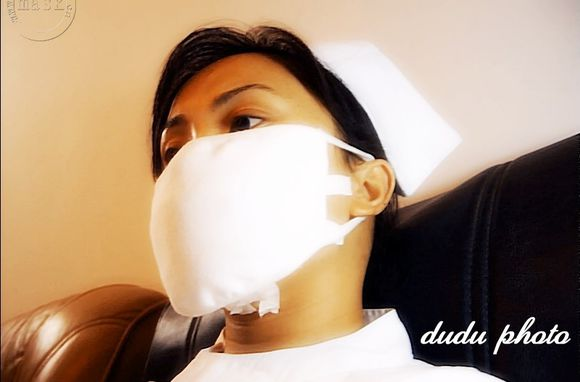face_mask: (156, 56, 346, 313)
